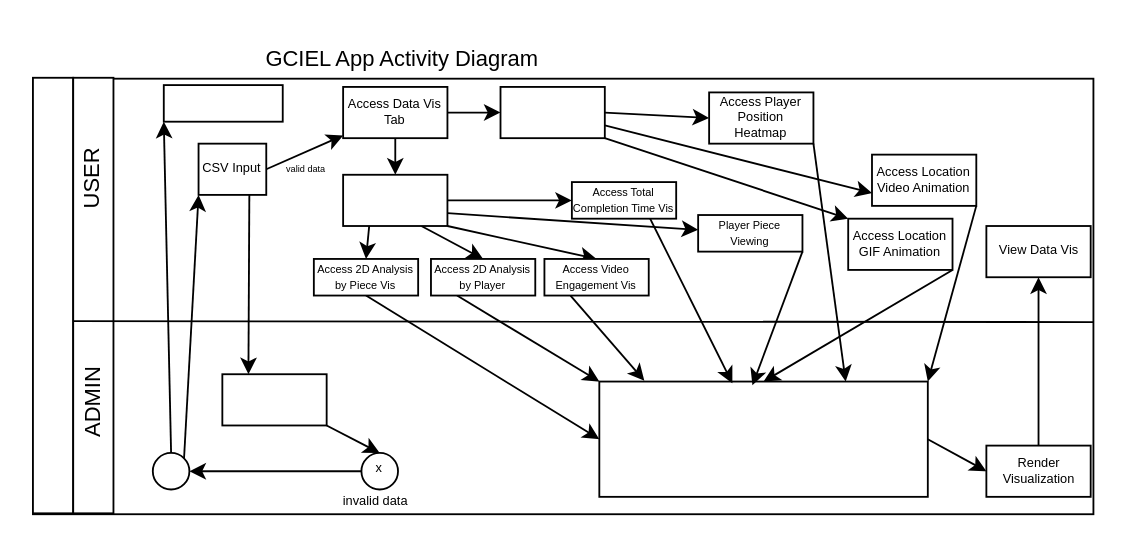
Image size: 1127x556. Some labels were removed from this diagram. Each missing label, with the box of its shape:
Access Heat Map Vis Section: (499, 85, 605, 138)
Access User Engagement Vis Section: (341, 173, 447, 226)
ACS Google Form: (162, 83, 283, 122)
Authenticate File: (221, 372, 327, 425)
GCIEL Assessment Strategy: (31, 76, 73, 513)
Mutate Temp Data Frame: (597, 380, 928, 497)
